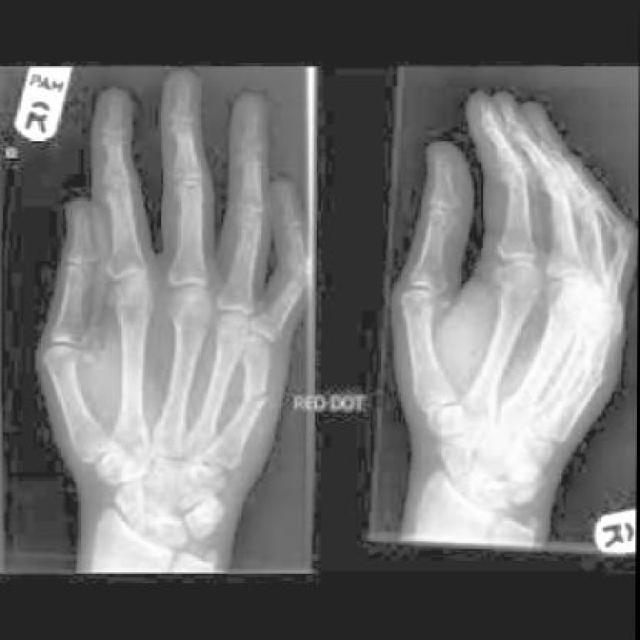Fracture: (231, 375, 271, 411), (583, 357, 617, 396)
